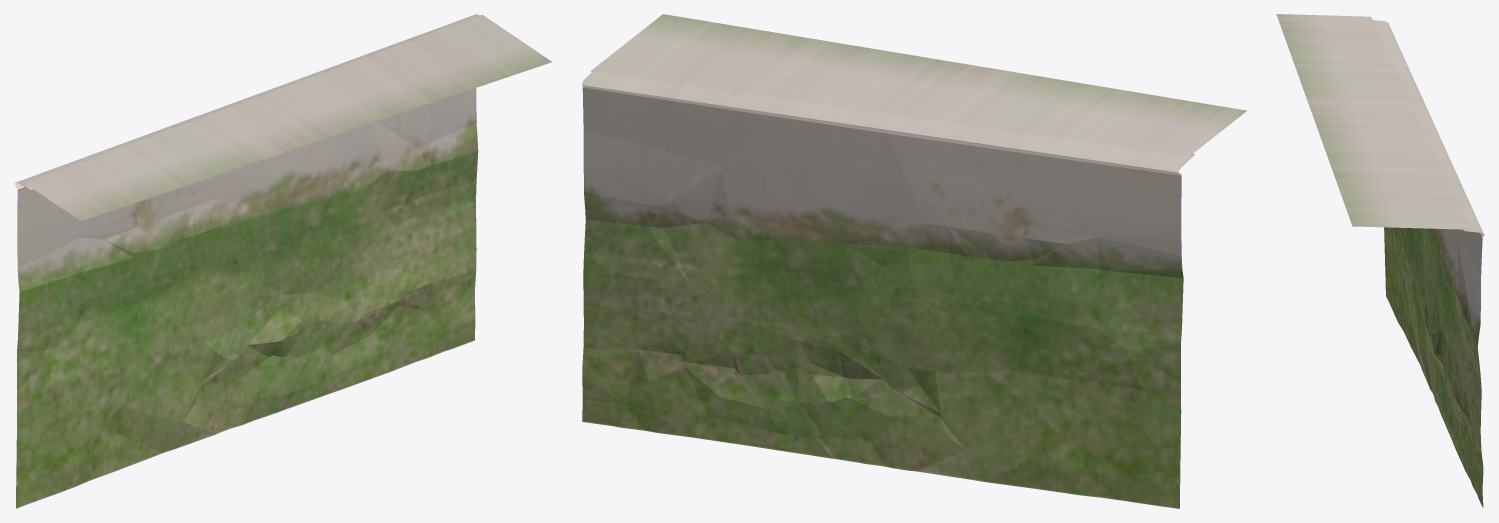
Rendered from map_270_40.obj.
3 renders of one model, left to right at view 1: azimuth 30°, elevation 25°; view 2: azimuth 150°, elevation 25°; view 3: azimuth 270°, elevation 25°, orthographic. The views are drawn at different scales.
Visible parts, largest first — view 1: grp1; view 2: grp1; view 3: grp1.
Part boxes in pixels (x1=…): grp1: x1=14, y1=14, x2=551, y2=508; grp1: x1=581, y1=14, x2=1246, y2=508; grp1: x1=1276, y1=14, x2=1484, y2=507.
Size of the model in its own units: 10 by 6.2 by 4.15.
Materials: 1 (1 with a texture image).
